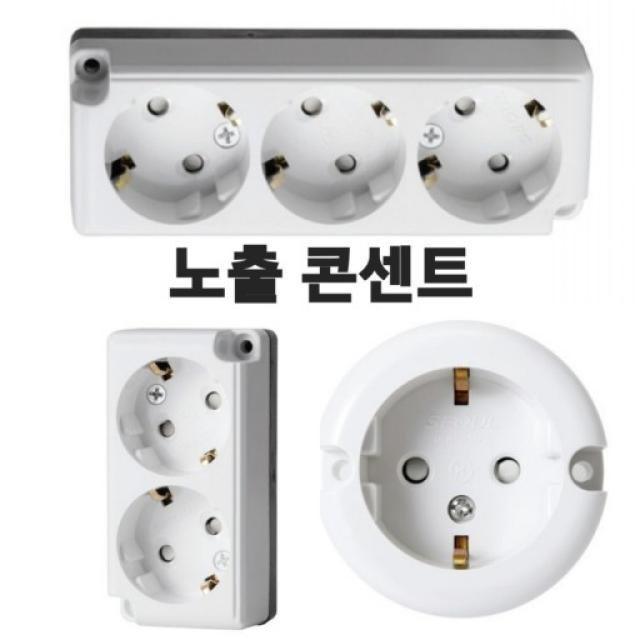typeb: (26, 13, 624, 236), (306, 305, 621, 625), (68, 310, 290, 640)
